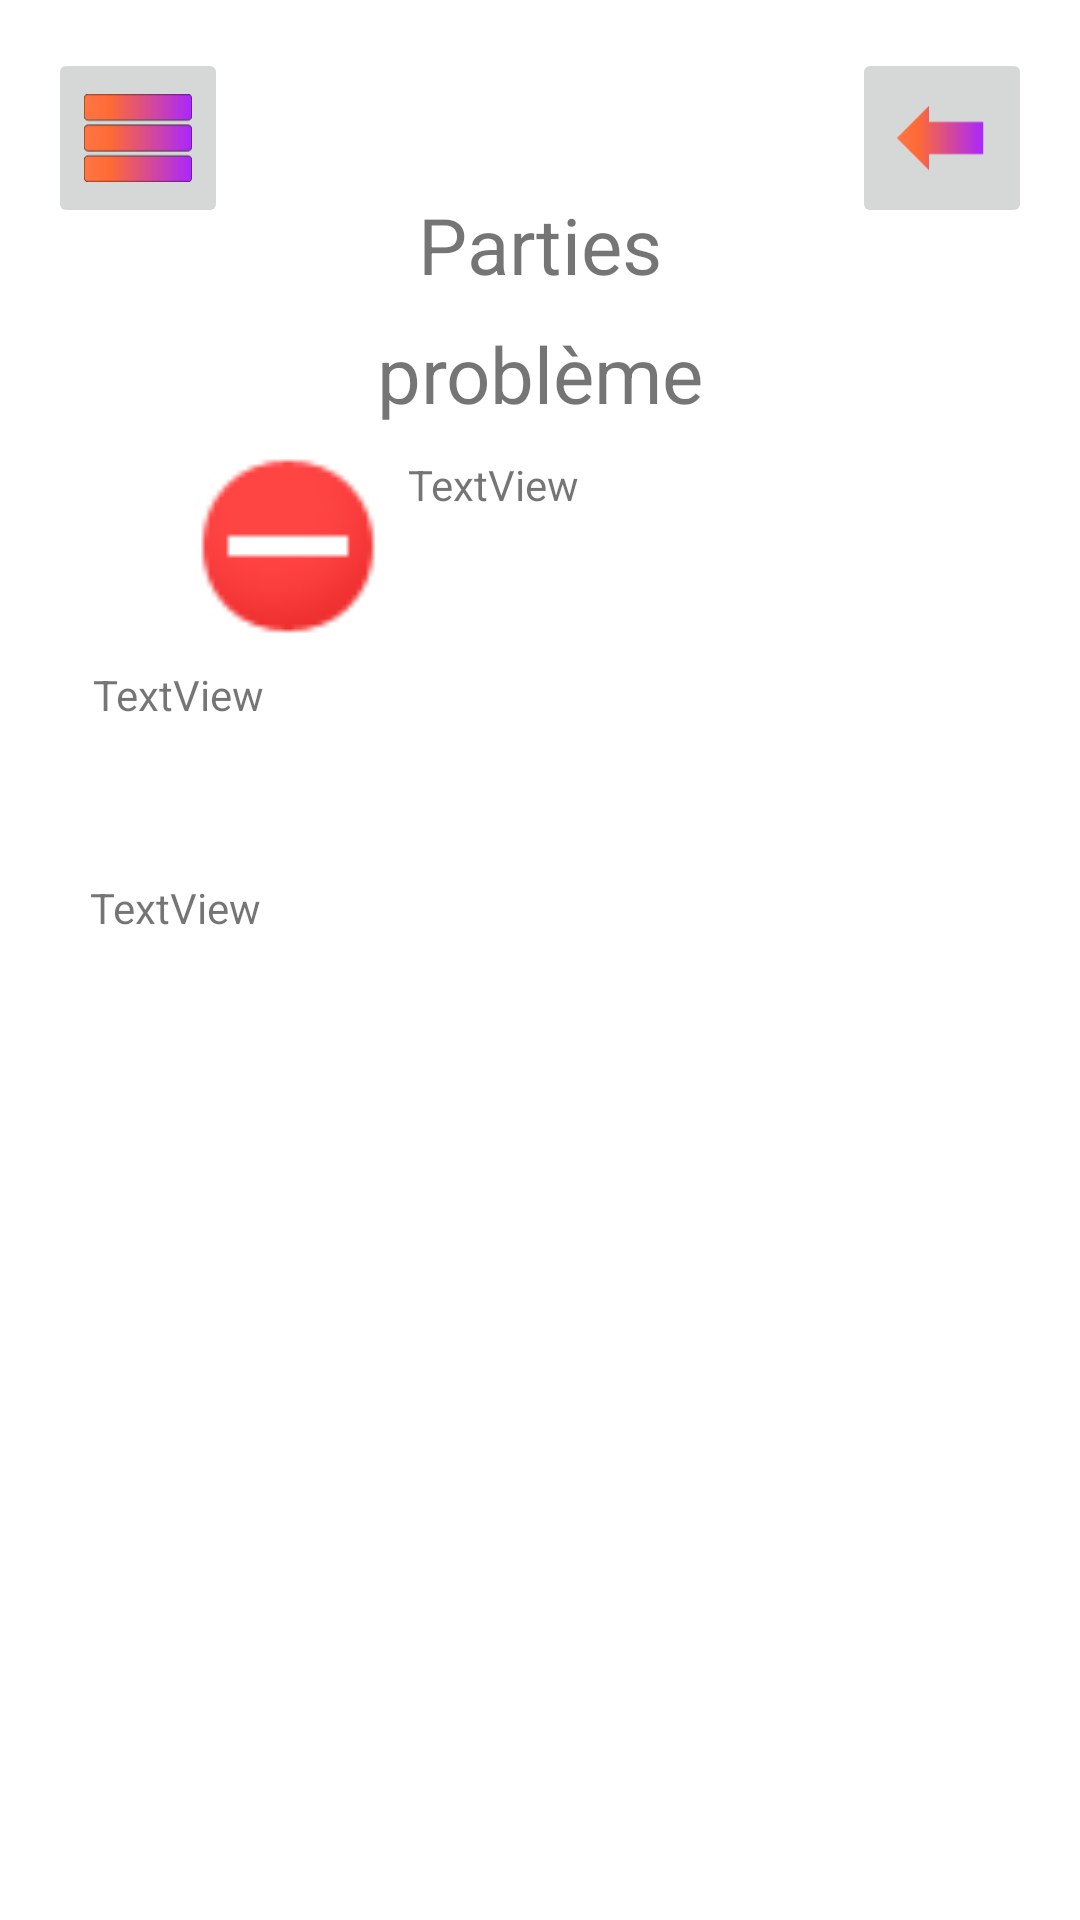

Named icons in this screenshot (1080 × 1920) and their bounding boxes, (x1, y1, x2, y2):
back arrow: (864, 66, 1020, 210)
menubar: (60, 66, 216, 210)
presence busy: (201, 459, 375, 633)
